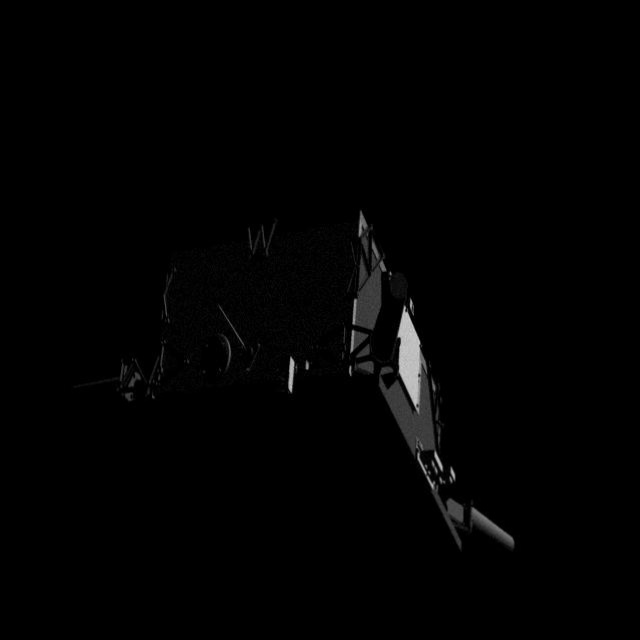medium_debris: (66, 207, 519, 597)
